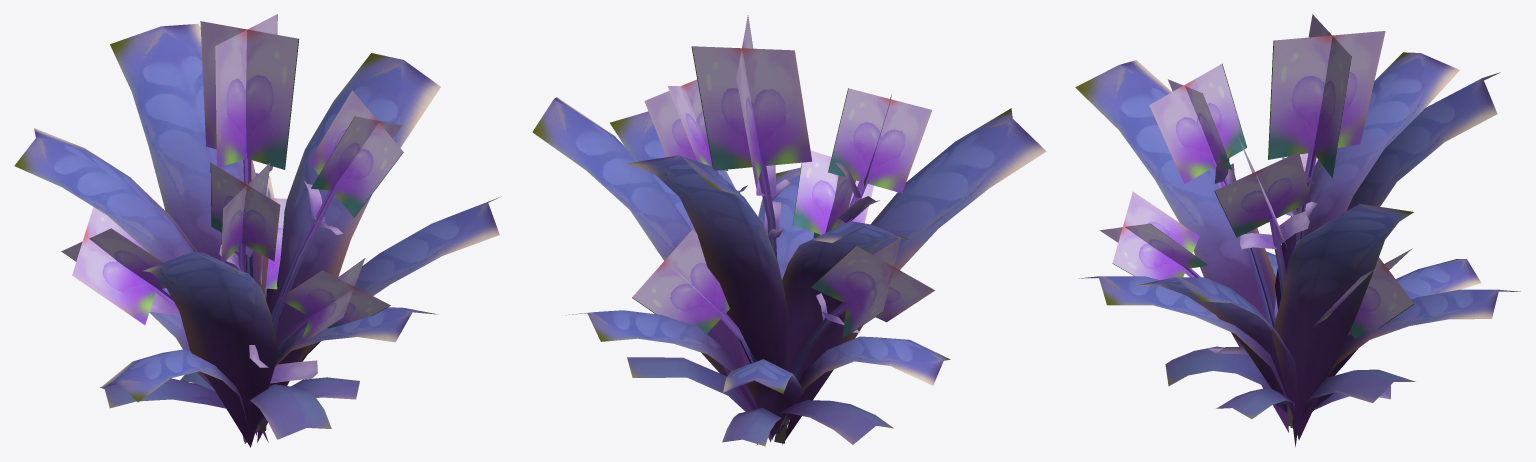
The model's file is Homeworld_Exterior_Common_Prop_Flower_FloralDesign_03_Vo.fbx.
The picture shows the model from 3 angles, left to right: view 1: azimuth 30°, elevation 25°; view 2: azimuth 150°, elevation 25°; view 3: azimuth 270°, elevation 25°; orthographic projection. The views are drawn at different scales.
Visible parts, largest first — view 1: Homeworld_Exterior_Common_Prop_Flower_FloralDesign_03_Vo; view 2: Homeworld_Exterior_Common_Prop_Flower_FloralDesign_03_Vo; view 3: Homeworld_Exterior_Common_Prop_Flower_FloralDesign_03_Vo.
Part boxes in pixels (box(x1,y1,x2,y2)): Homeworld_Exterior_Common_Prop_Flower_FloralDesign_03_Vo: box(14, 14, 501, 447); Homeworld_Exterior_Common_Prop_Flower_FloralDesign_03_Vo: box(532, 15, 1046, 446); Homeworld_Exterior_Common_Prop_Flower_FloralDesign_03_Vo: box(1075, 14, 1520, 446).
Size of the model in its own units: 0.4071 by 0.4037 by 0.392.
